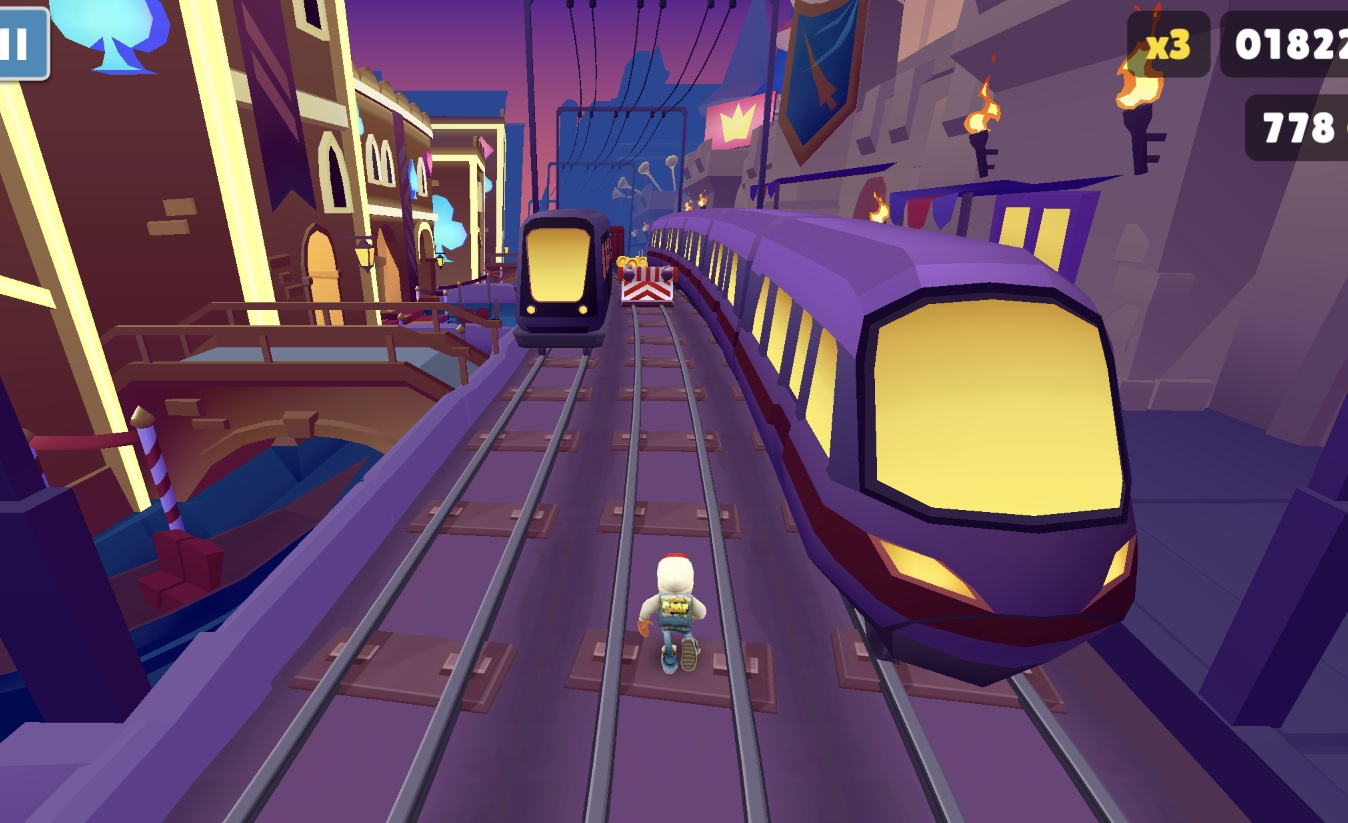ground_barrier: (618, 264, 676, 307)
train: (645, 205, 1141, 690), (510, 210, 624, 349), (607, 226, 627, 258)
